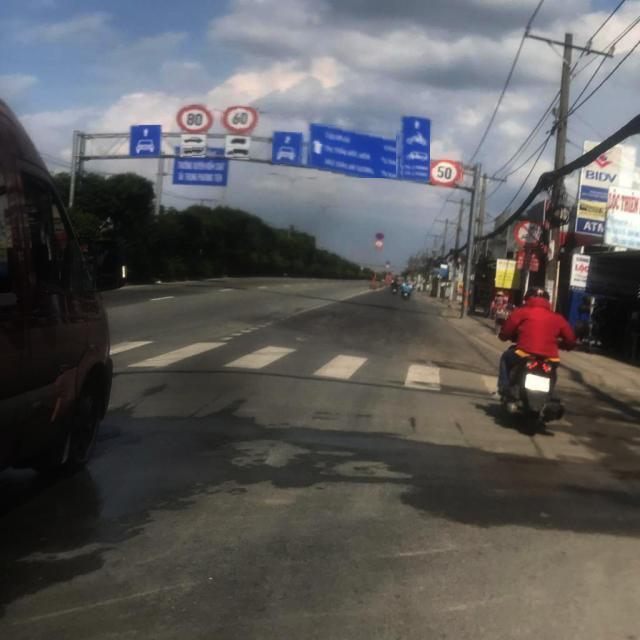127-toc-do-toi-da-50: (428, 159, 462, 189)
127-toc-do-toi-da-60: (220, 106, 256, 134)
127-toc-do-toi-da-80: (176, 103, 212, 133)
